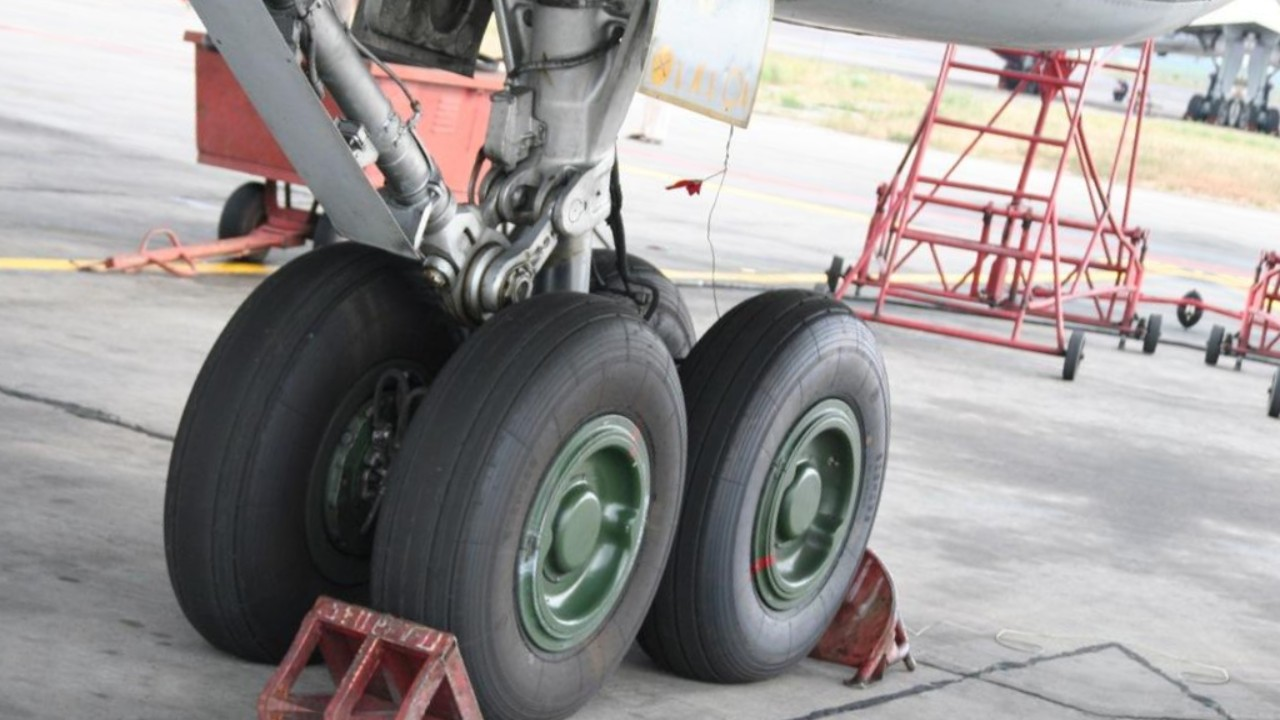chock: (256, 582, 519, 720), (803, 543, 943, 698)
wheel: (335, 265, 730, 720), (129, 220, 476, 679), (627, 271, 926, 704), (567, 246, 713, 356)
